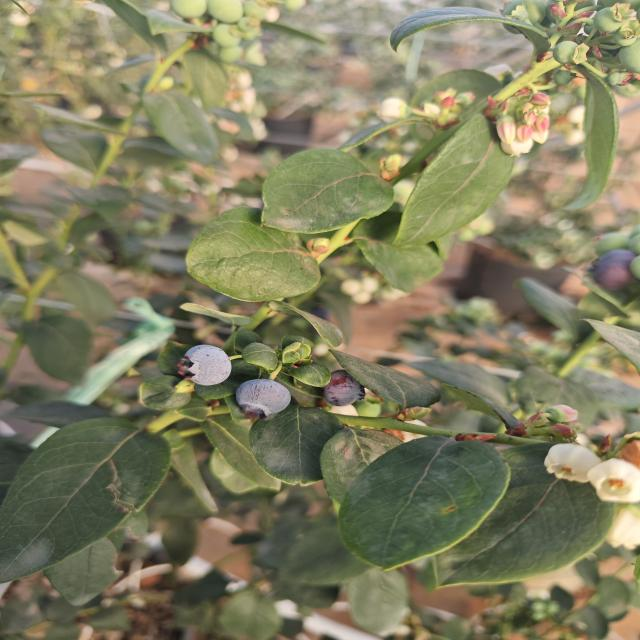ripe: (173, 343, 245, 388), (581, 242, 640, 294), (317, 362, 369, 408), (228, 376, 288, 414)
